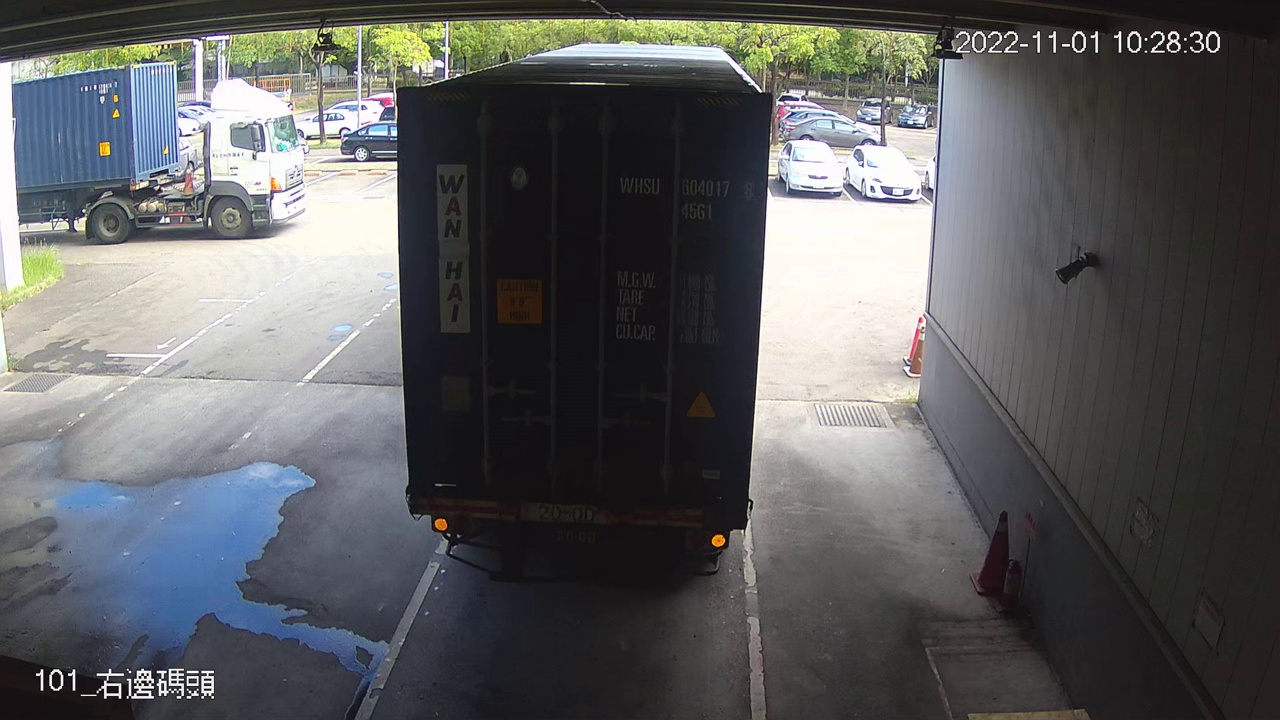container: (610, 166, 760, 228)
